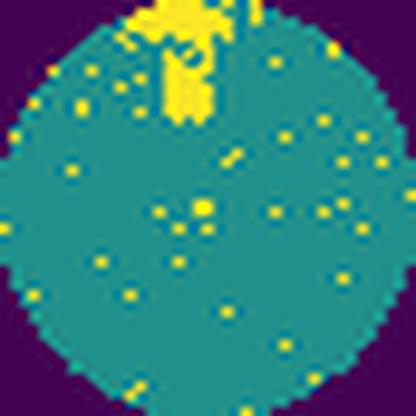Loc: (123, 0, 236, 128)
